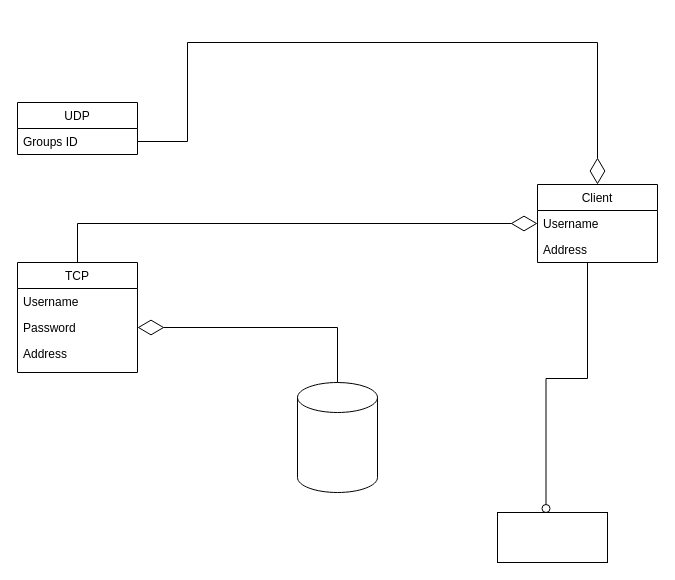
Image size: 675x580. Some labels were removed from this diagram. Here are the shapes that lost their labels. From the top down, the centre of each, then its label:
At point 337,437: "Database".
At point 552,537: "User Interface".
